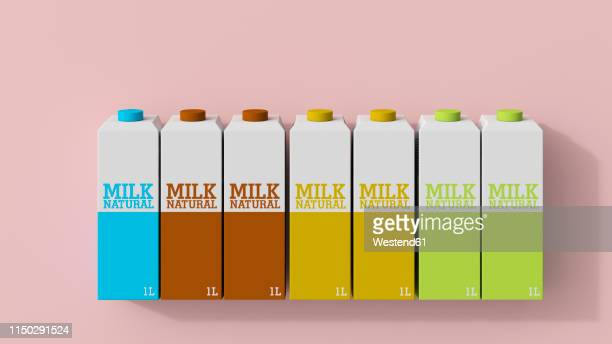carton: (481, 94, 554, 309), (87, 95, 159, 307), (224, 97, 291, 304), (288, 94, 353, 305), (417, 94, 480, 307), (159, 97, 224, 303), (355, 94, 418, 306)
